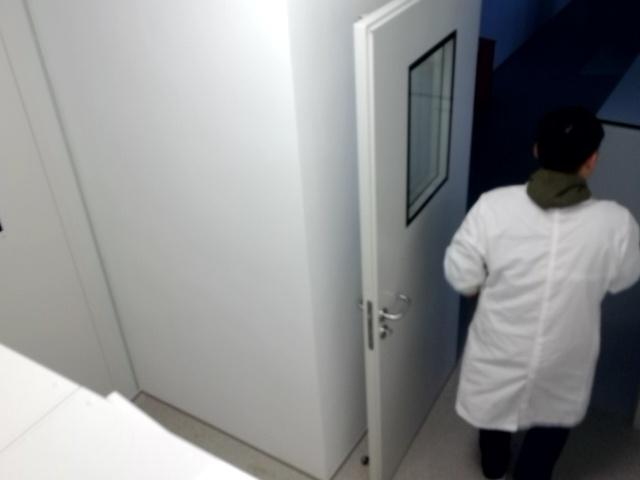Lab_coat: (444, 106, 639, 479)
